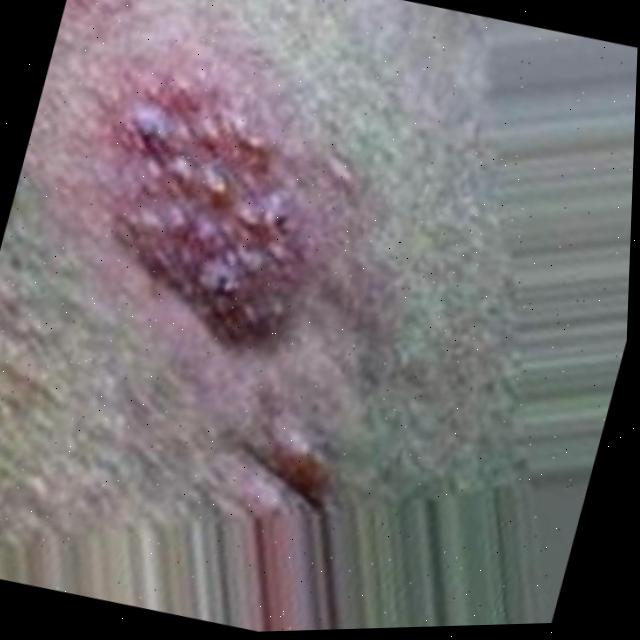Shingles: (64, 78, 337, 359)
